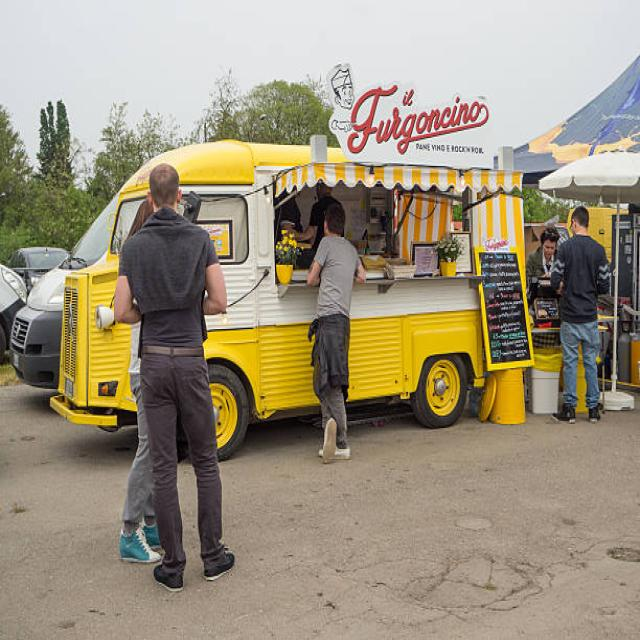Emperan: (39, 66, 594, 474)
